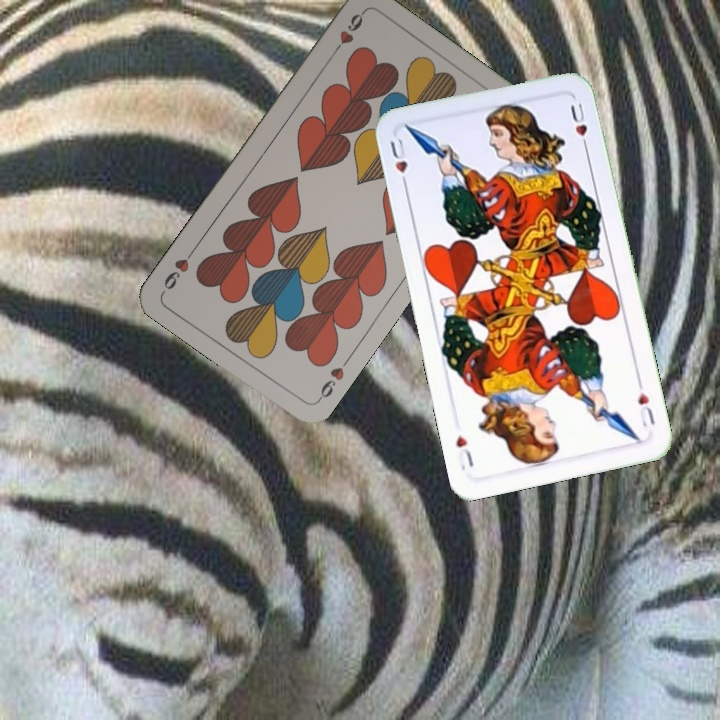H9: (313, 353, 353, 405), (327, 8, 367, 59)
HU: (386, 134, 410, 192), (634, 376, 658, 430)
